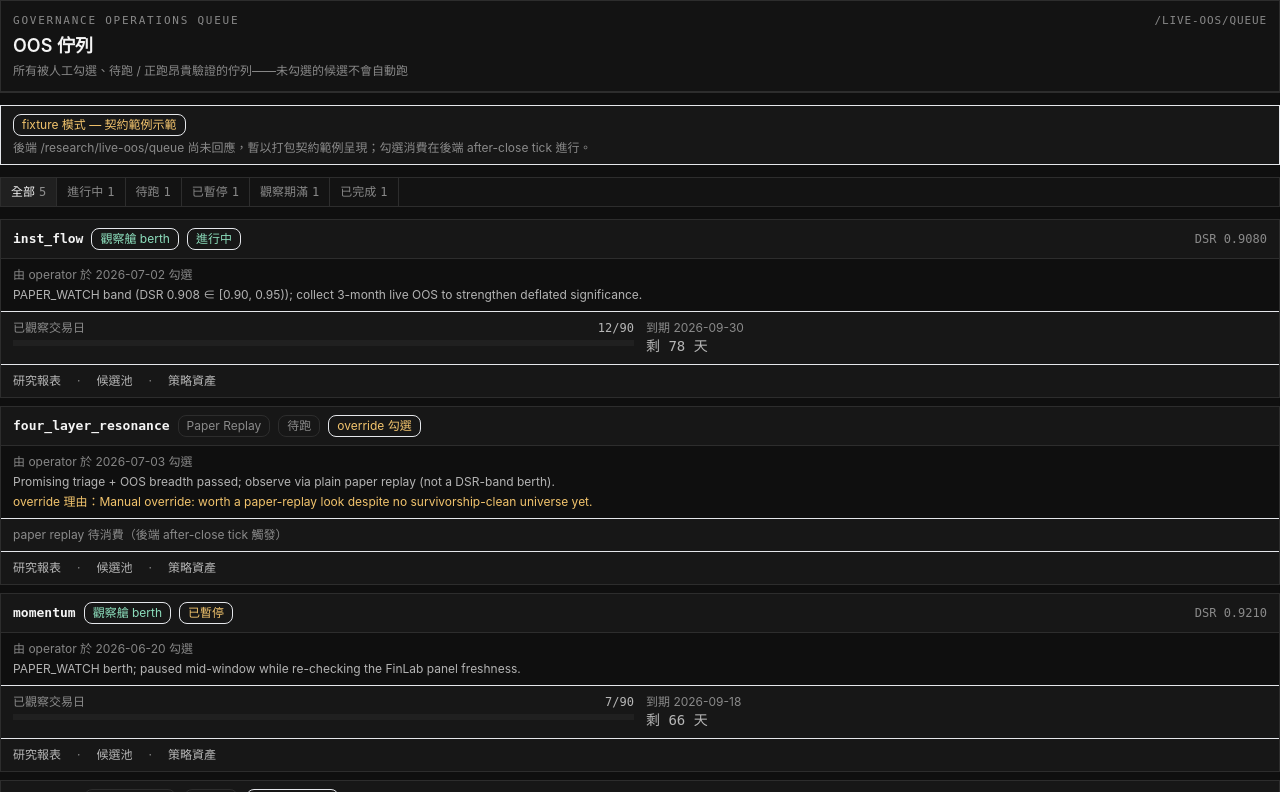
Test: LiveOosQueuePage — fixture fallback › state filter narrows to a single state
Expected: the heading "momentum" is shown, [13,604,76,622]
// click the "paused" chip → only momentum's paused berth remains
Click the button "已暫停1" at (216, 192), box [182,178,250,206]
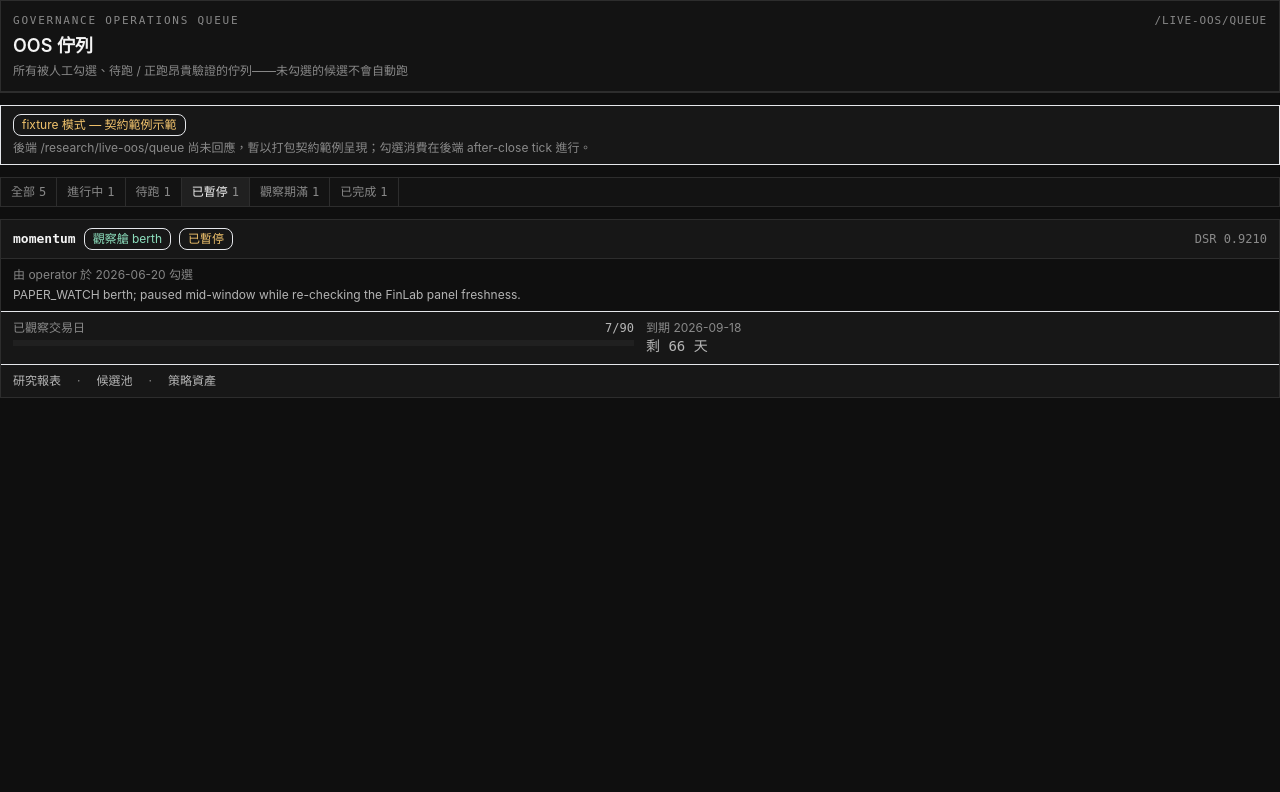
Expected: the heading "momentum" is shown, [13,230,76,248]
Result: the heading "four_layer_resonance" is gone
